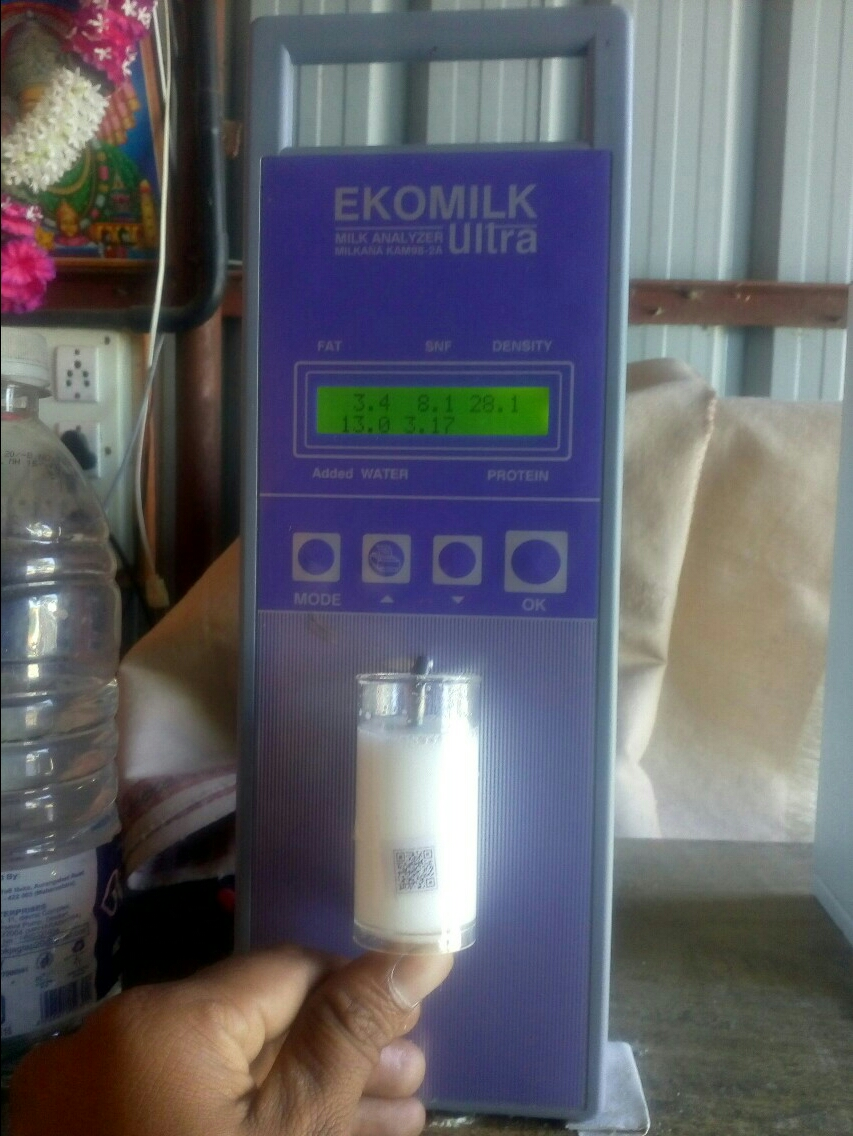lcd: (296, 375, 565, 445)
qr: (375, 840, 448, 913)
